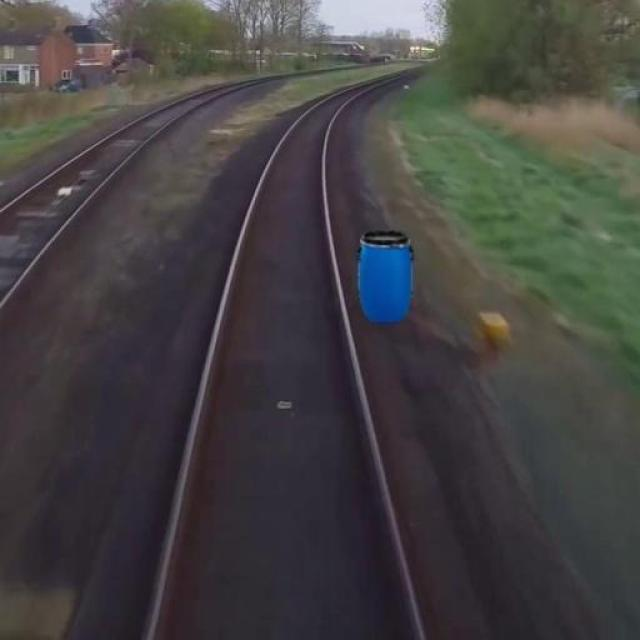Other_objects: (354, 221, 429, 330)
